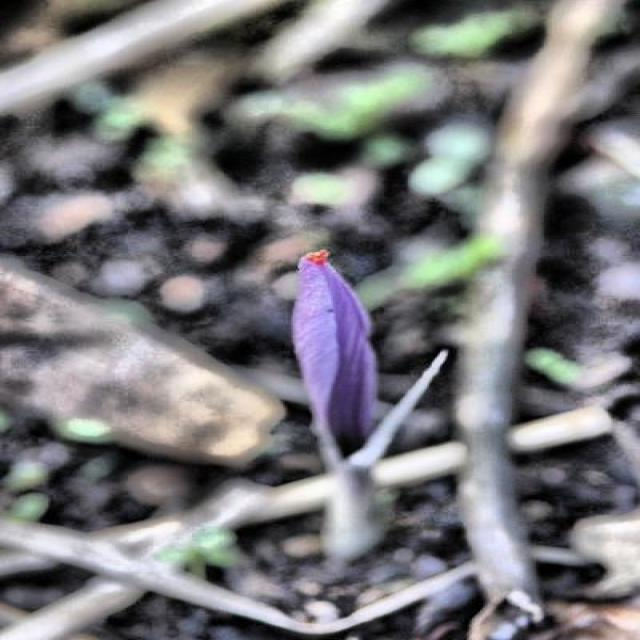Flower: (283, 245, 387, 463)
stigma: (289, 247, 335, 271)
